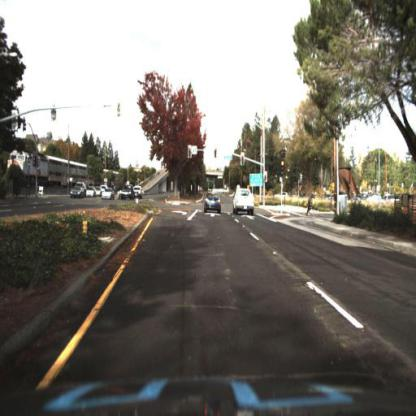biker: (308, 195, 316, 216)
car: (234, 190, 256, 221), (205, 192, 222, 213), (70, 181, 86, 201), (121, 185, 135, 202), (71, 185, 86, 200), (100, 187, 114, 202), (101, 188, 113, 204), (122, 185, 134, 201), (135, 183, 145, 201), (277, 188, 289, 199), (88, 186, 96, 200), (88, 187, 97, 199), (135, 188, 142, 202)
trafficLight-Red: (211, 143, 222, 157), (239, 151, 247, 167), (282, 149, 287, 173), (281, 160, 287, 170)
